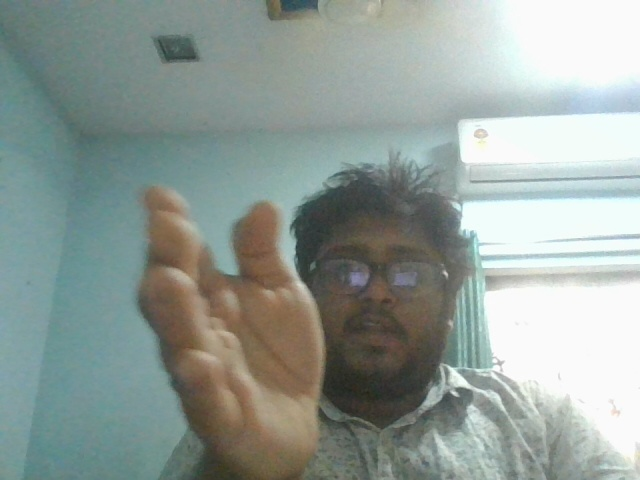RIGHT: (132, 167, 338, 468)
